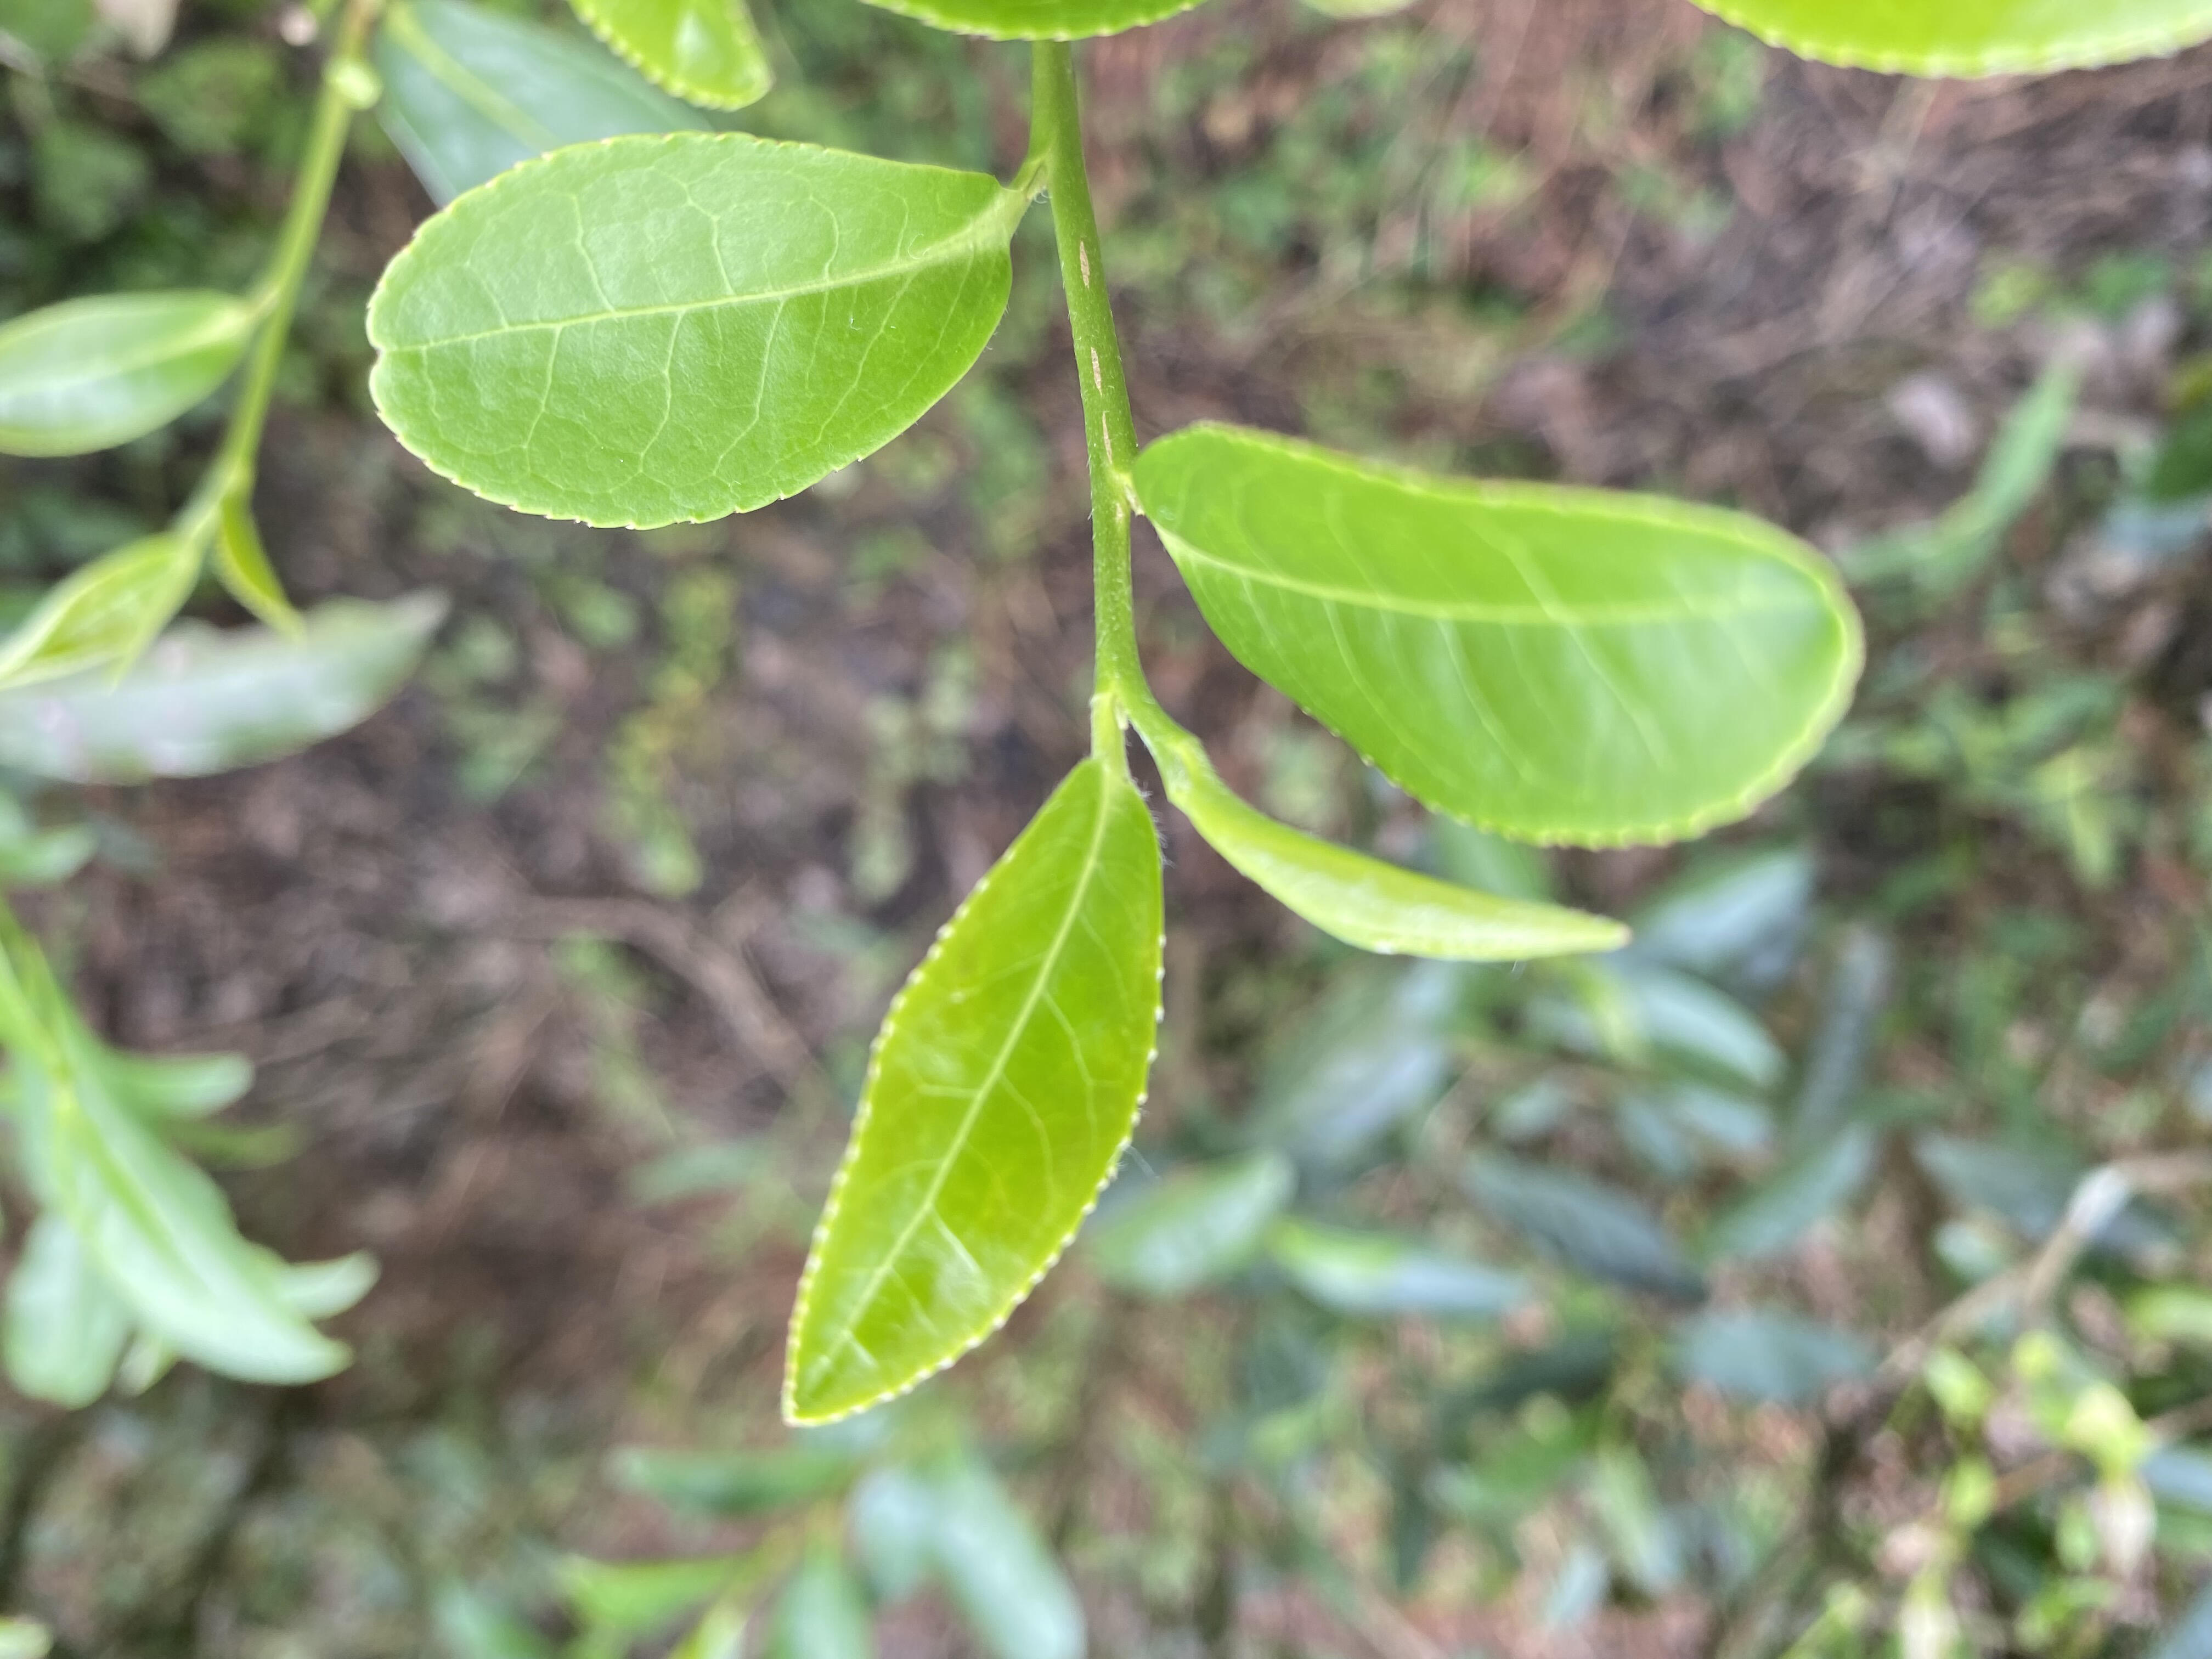healthy: (1136, 420, 1869, 856), (362, 131, 1026, 535), (782, 763, 1169, 1422)
